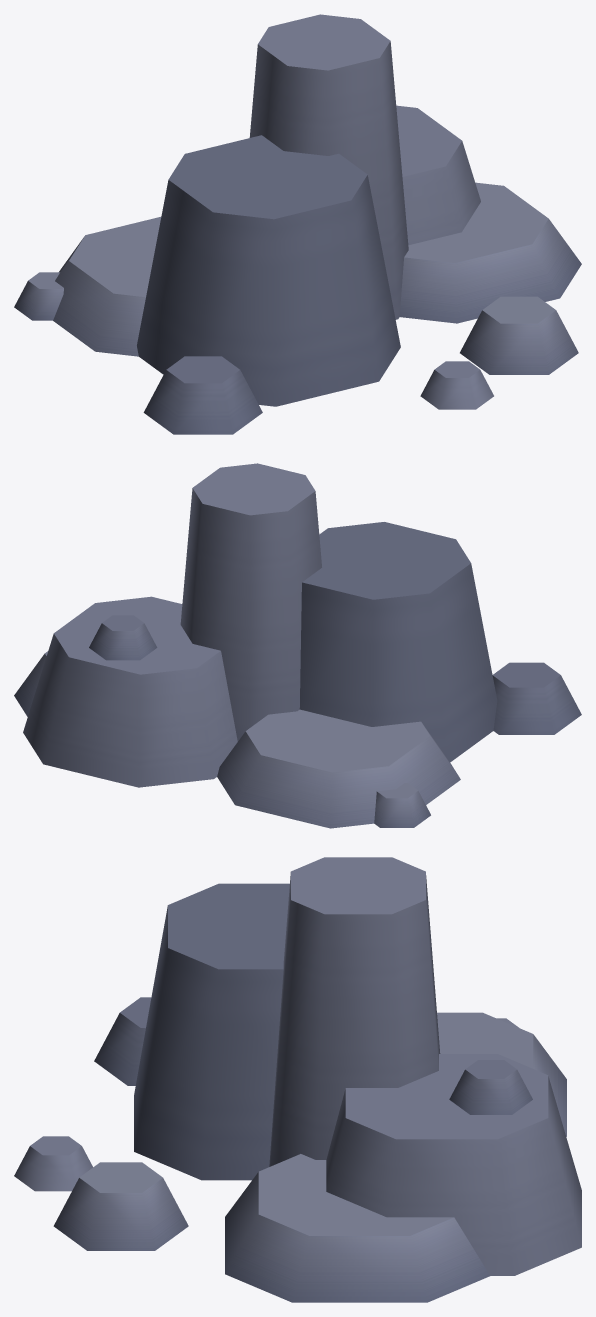
3 views of the same model, one above another, from view 1: azimuth 30°, elevation 25°; view 2: azimuth 150°, elevation 25°; view 3: azimuth 270°, elevation 25° (orthographic). The views are drawn at different scales.
Visible parts, largest first — view 1: stones; view 2: stones; view 3: stones.
Part boxes in pixels (x1,y1,x2,y2): stones: (14,14,581,434); stones: (14,463,581,828); stones: (14,857,581,1302).
Bounding box in the file's own units: 0.8924 × 0.4539 × 0.8045.
1 material, 1 textured.
